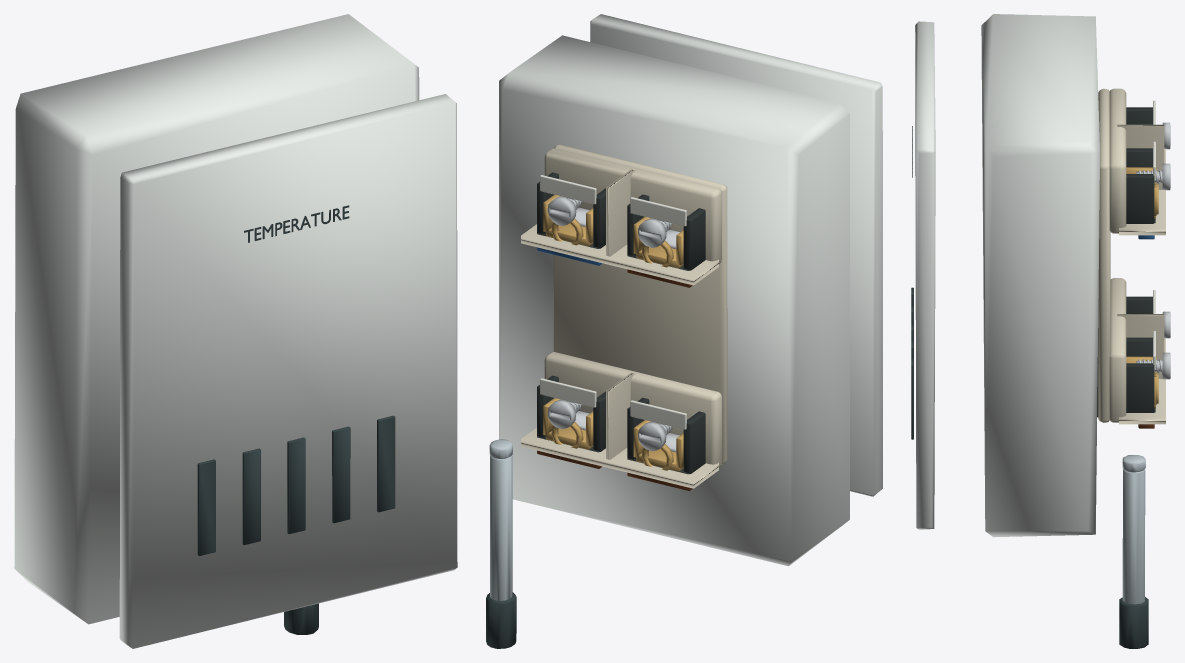
The model's file is sensor_mode_temperature.low.glb.
The picture shows the model from 3 angles, left to right: view 1: azimuth 30°, elevation 25°; view 2: azimuth 150°, elevation 25°; view 3: azimuth 270°, elevation 25°; orthographic projection. The views are drawn at different scales.
Visible parts, largest first — view 1: Temperature transmitter fascia, Rounded sensor mounting base, part:cover · Machinery thermoplastic, Remote probe gland; view 2: Rounded sensor mounting base, part:terminals · Original 5a609f27, Temperature transmitter fascia, part:sensing · Machined steel, detail:terminal-clamp:IN · Detail moulded engineering polyme, detail:terminal-clamp:L · Detail moulded engineering polymer, Remote probe gland, detail:terminal-clamp:L · Detail machined brass, detail:terminal-clamp:N · Detail machined brass, detail:terminal-clamp:OUT · Detail machined brass, detail:terminal-clamp:IN · Detail machined brass, detail:terminal-clamp:OUT · Detail moulded engineering polym (+9 smaller); view 3: Rounded sensor mounting base, part:terminals · Original 5a609f27, Temperature transmitter fascia, part:sensing · Machined steel, detail:terminal-clamp:OUT · Detail moulded engineering polym, detail:terminal-clamp:N · Detail moulded engineering polymer, Remote probe gland, part:cover · Machinery thermoplastic, detail:terminal-clamp:IN · Detail moulded engineering polyme, detail:terminal-clamp:L · Detail moulded engineering polymer, detail:terminal-clamp:OUT · Detail zinc plated fixing, detail:terminal-clamp:N · Detail zinc plated fixing.
Boxes of the visible parts, x1,y1,x2,y2 form: Temperature transmitter fascia: (119, 94, 457, 648); Rounded sensor mounting base: (14, 14, 419, 624); part:cover · Machinery thermoplastic: (197, 205, 395, 556); Remote probe gland: (284, 603, 318, 634); Rounded sensor mounting base: (499, 35, 849, 566); part:terminals · Original 5a609f27: (521, 144, 727, 488); Temperature transmitter fascia: (590, 14, 882, 496); part:sensing · Machined steel: (489, 439, 512, 600); detail:terminal-clamp:IN · Detail moulded engineering polyme: (627, 397, 705, 474); detail:terminal-clamp:L · Detail moulded engineering polymer: (627, 194, 705, 270); Remote probe gland: (486, 592, 516, 648); detail:terminal-clamp:L · Detail machined brass: (633, 216, 683, 268); detail:terminal-clamp:N · Detail machined brass: (543, 194, 593, 246); detail:terminal-clamp:OUT · Detail machined brass: (543, 398, 593, 449); detail:terminal-clamp:IN · Detail machined brass: (633, 420, 683, 471); detail:terminal-clamp:OUT · Detail moulded engineering polym: (537, 375, 605, 452); Rounded sensor mounting base: (981, 14, 1099, 537); part:terminals · Original 5a609f27: (1098, 88, 1165, 424); Temperature transmitter fascia: (915, 21, 935, 529); part:sensing · Machined steel: (1122, 455, 1145, 604); detail:terminal-clamp:OUT · Detail moulded engineering polym: (1097, 337, 1155, 417); detail:terminal-clamp:N · Detail moulded engineering polymer: (1126, 148, 1155, 223); Remote probe gland: (1119, 597, 1148, 648); part:cover · Machinery thermoplastic: (911, 126, 913, 439); detail:terminal-clamp:IN · Detail moulded engineering polyme: (1098, 296, 1152, 337); detail:terminal-clamp:L · Detail moulded engineering polymer: (1126, 107, 1152, 124); detail:terminal-clamp:OUT · Detail zinc plated fixing: (1136, 352, 1170, 379); detail:terminal-clamp:N · Detail zinc plated fixing: (1136, 163, 1170, 190).
Bounding box in the file's own units: 0.6184 × 1.08 × 0.4976.
